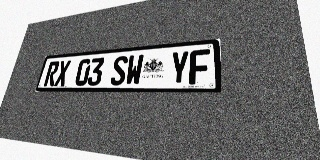0: (74, 58, 92, 86)
3: (87, 57, 105, 86)
F: (189, 49, 210, 84)
R: (43, 61, 60, 86)
S: (110, 55, 128, 85)
W: (125, 54, 144, 85)
X: (54, 60, 71, 86)
Y: (169, 50, 189, 85)
